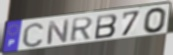7: (121, 9, 143, 38)
B: (94, 13, 119, 41)
C: (21, 21, 46, 49)
N: (45, 18, 70, 46)
O: (142, 6, 168, 34)
R: (69, 16, 95, 43)
